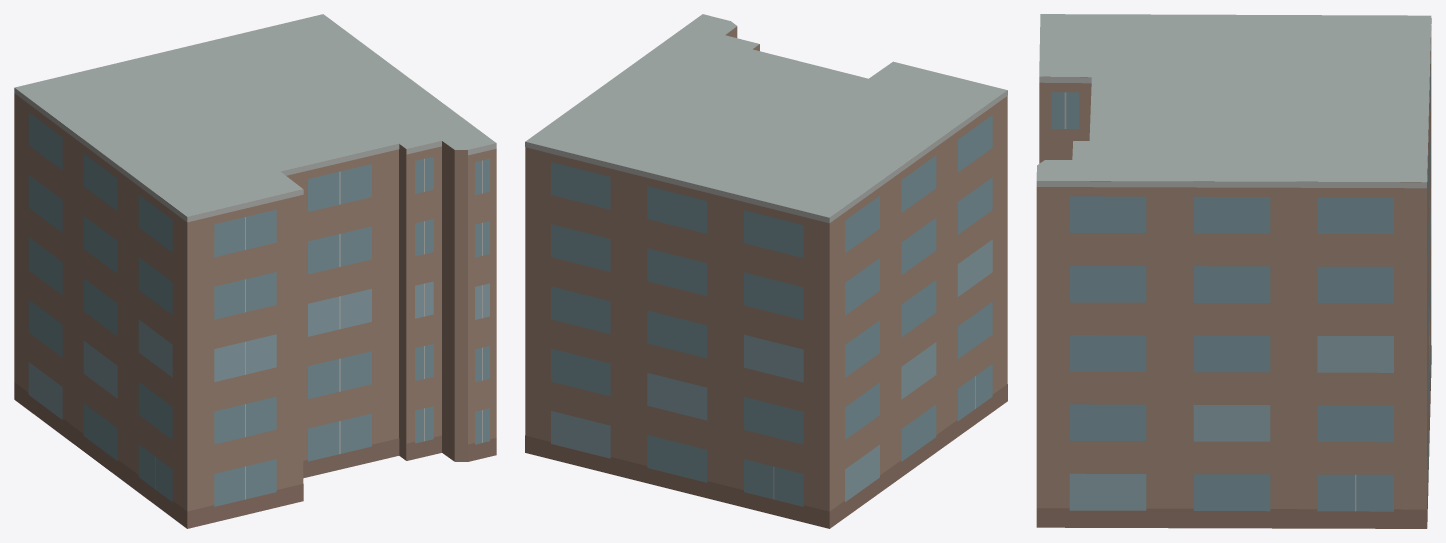
The model's file is survey-upis-32690842.glb.
The picture shows the model from 3 angles, left to right: view 1: azimuth 30°, elevation 25°; view 2: azimuth 150°, elevation 25°; view 3: azimuth 270°, elevation 25°; orthographic projection. The views are drawn at different scales.
Visible parts, largest first — view 1: survey-upis-32690842.tmp; view 2: survey-upis-32690842.tmp; view 3: survey-upis-32690842.tmp.
Part boxes in pixels (x1,y1,x2,y2): survey-upis-32690842.tmp: (14,14,496,528); survey-upis-32690842.tmp: (525,14,1007,528); survey-upis-32690842.tmp: (1036,14,1431,528).
Bounding box in the file's own units: 14.46 × 13.9 × 14.36.
